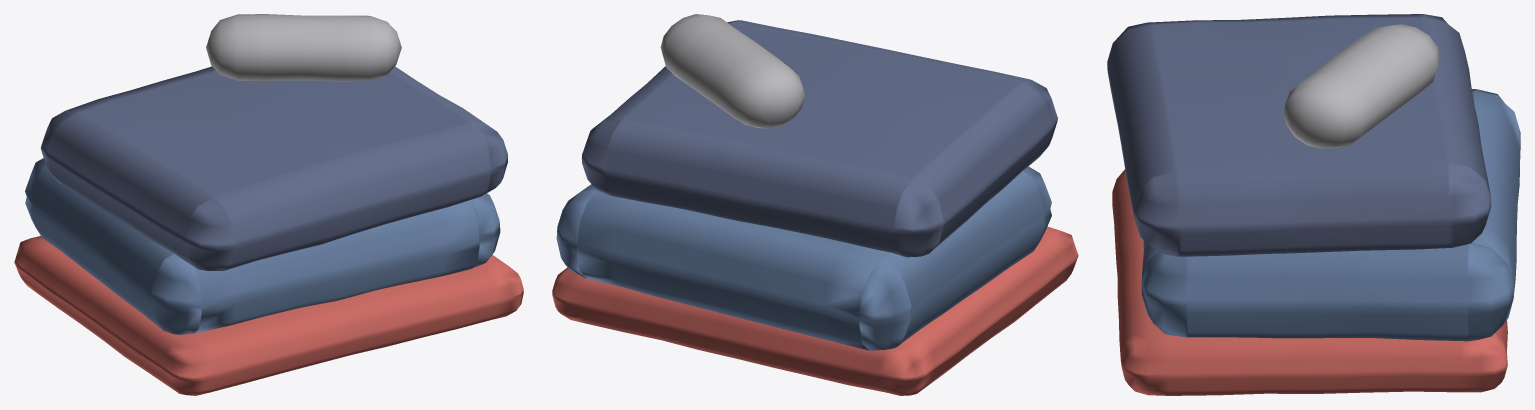
File: textiles_folded_stack_b.fbx
3 views of the same model, side by side, from view 1: azimuth 30°, elevation 25°; view 2: azimuth 150°, elevation 25°; view 3: azimuth 270°, elevation 25° (orthographic). The views are drawn at different scales.
Visible parts, largest first — view 1: textiles_folded_stack_b; view 2: textiles_folded_stack_b; view 3: textiles_folded_stack_b.
Boxes of the visible parts, x1,y1,x2,y2 form: textiles_folded_stack_b: (14,14,523,395); textiles_folded_stack_b: (552,14,1078,395); textiles_folded_stack_b: (1107,14,1520,395).
Bounding box in the file's own units: 0.3131 × 0.2107 × 0.2776.
